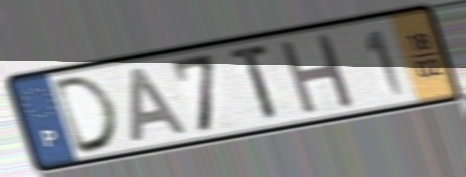1: (364, 26, 406, 98)
7: (168, 49, 223, 136)
A: (127, 64, 191, 146)
D: (50, 71, 123, 158)
H: (276, 30, 358, 118)
T: (227, 39, 282, 125)
